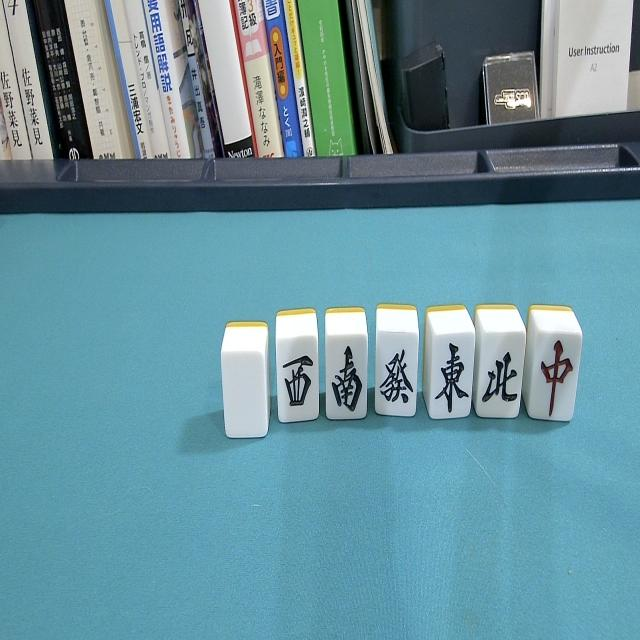chun: (523, 300, 584, 434)
haku: (219, 320, 271, 450)
hatsu: (374, 302, 422, 426)
nan: (324, 308, 372, 432)
pe-: (471, 301, 525, 431)
sya-: (275, 307, 321, 433)
ton: (424, 305, 475, 428)
